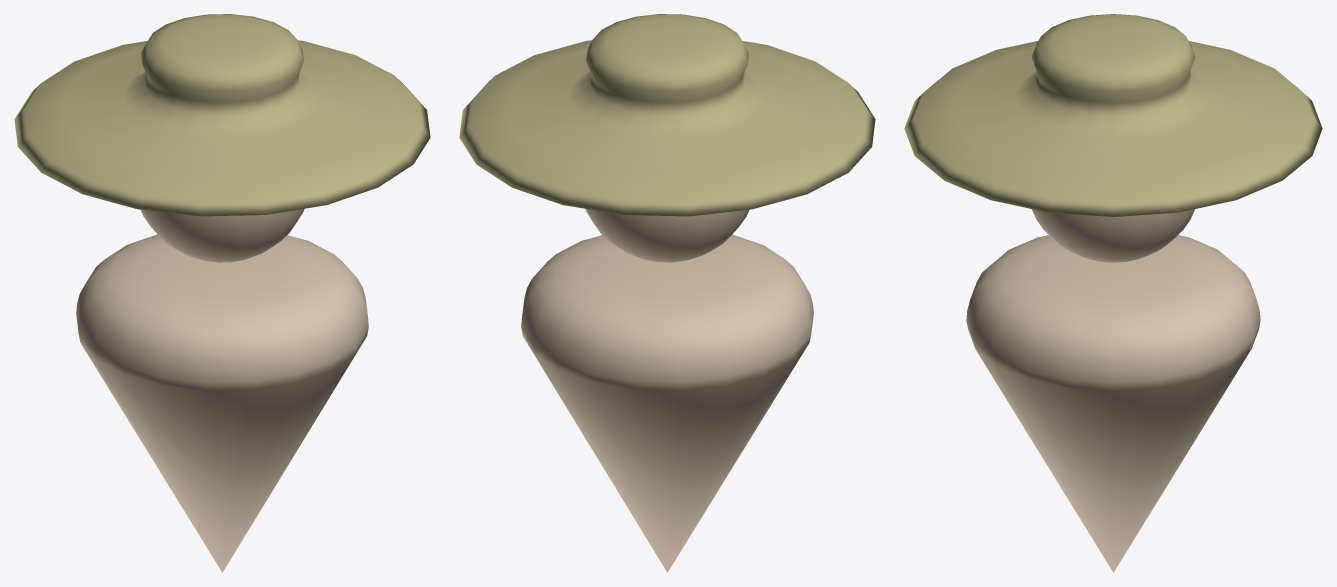
Rendered from Townsperson.fbx.
3 views of the same model, side by side, from view 1: azimuth 30°, elevation 25°; view 2: azimuth 150°, elevation 25°; view 3: azimuth 270°, elevation 25° (orthographic).
Visible parts, largest first — view 1: pCone2; view 2: pCone2; view 3: pCone2.
Boxes of the visible parts, x1,y1,x2,y2 form: pCone2: [14, 14, 430, 572]; pCone2: [459, 14, 875, 572]; pCone2: [904, 14, 1322, 572].
Size of the model in its own units: 2.64 by 3.73 by 2.64.
